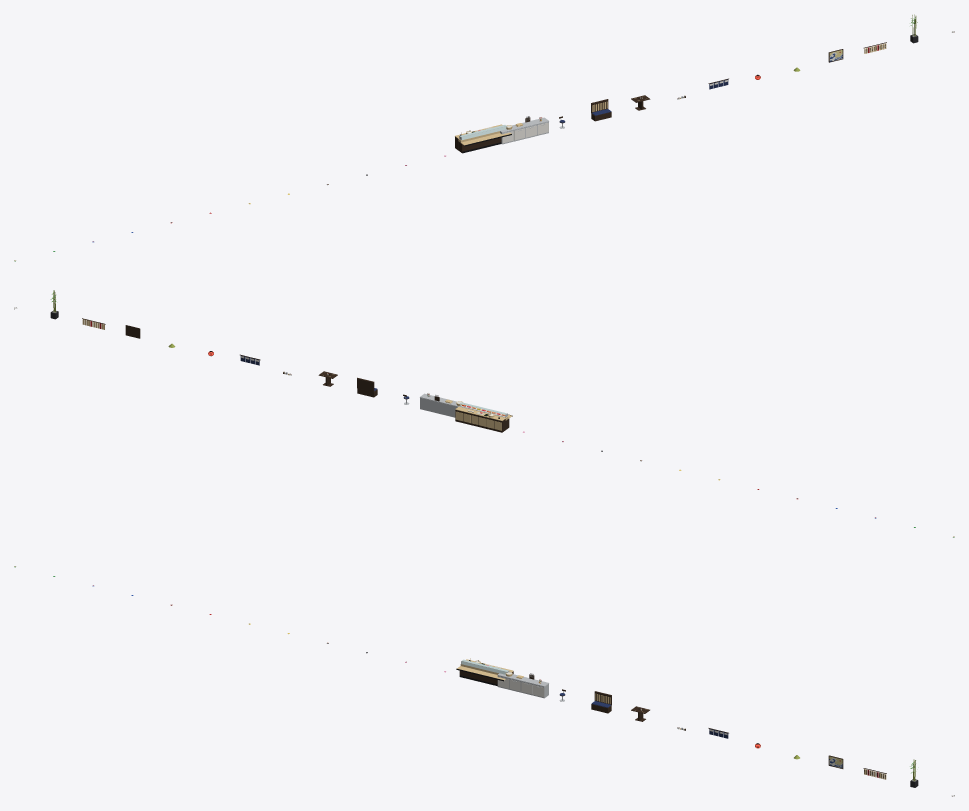
The model's file is RestaurantSushi.glb.
3 views of the same model, one above another, from view 1: azimuth 30°, elevation 25°; view 2: azimuth 150°, elevation 25°; view 3: azimuth 330°, elevation 25° (orthographic).
Visible parts, largest first — view 1: SushiBar, BackCounter; view 2: SushiBar, BackCounter; view 3: BackCounter, SushiBar.
Part boxes in pixels (bbox=[...]): SushiBar: bbox=[455, 124, 511, 153]; BackCounter: bbox=[500, 116, 548, 144]; SushiBar: bbox=[455, 402, 512, 432]; BackCounter: bbox=[420, 392, 466, 417]; BackCounter: bbox=[497, 672, 548, 698]; SushiBar: bbox=[456, 658, 513, 685].
Size of the model in its own units: 361 by 10.15 by 6.74.
